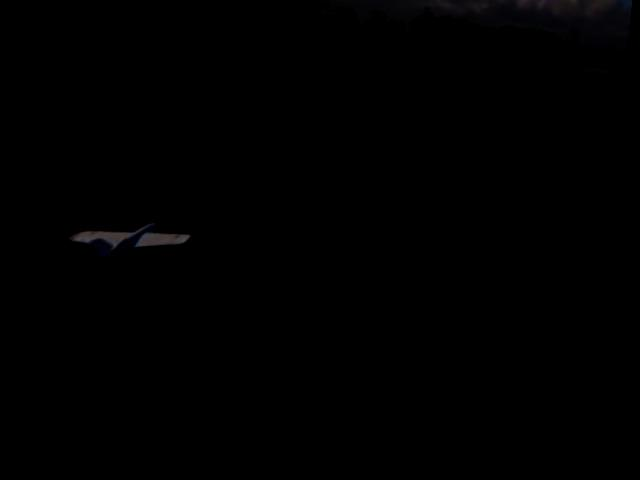uav: (64, 210, 204, 291)
